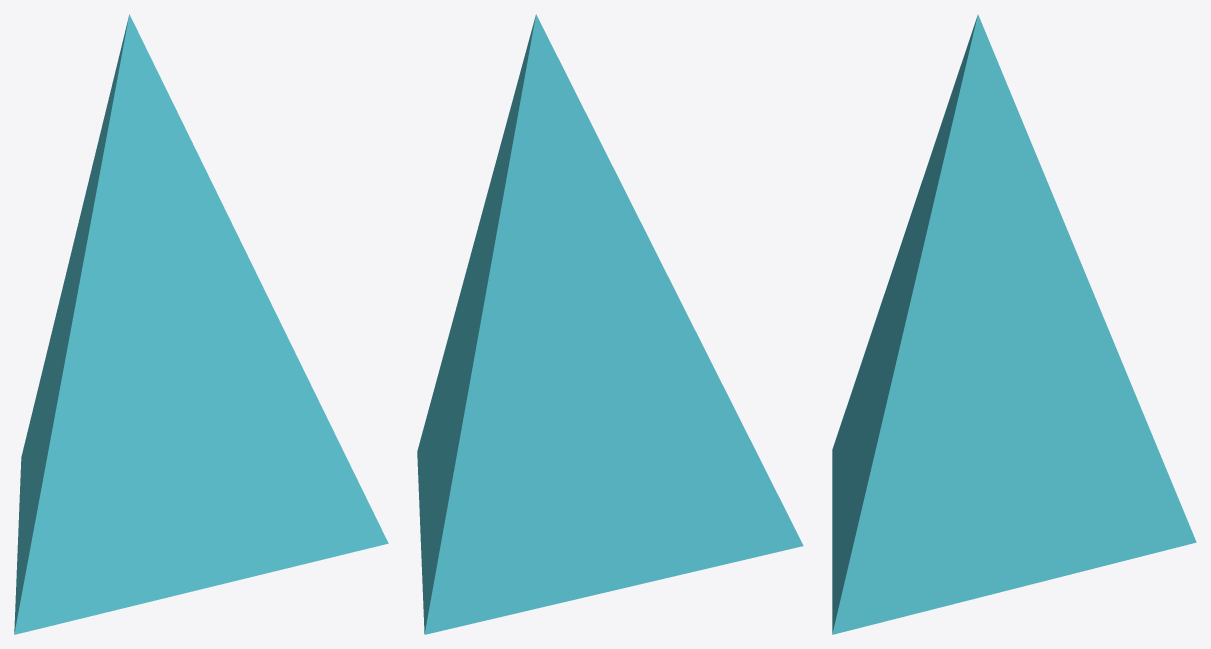
The model's file is basic.glb.
3 renders of one model, left to right at view 1: azimuth 30°, elevation 25°; view 2: azimuth 150°, elevation 25°; view 3: azimuth 270°, elevation 25°, orthographic. The views are drawn at different scales.
Bounding box in the file's own units: 1.2 × 1.6 × 1.
